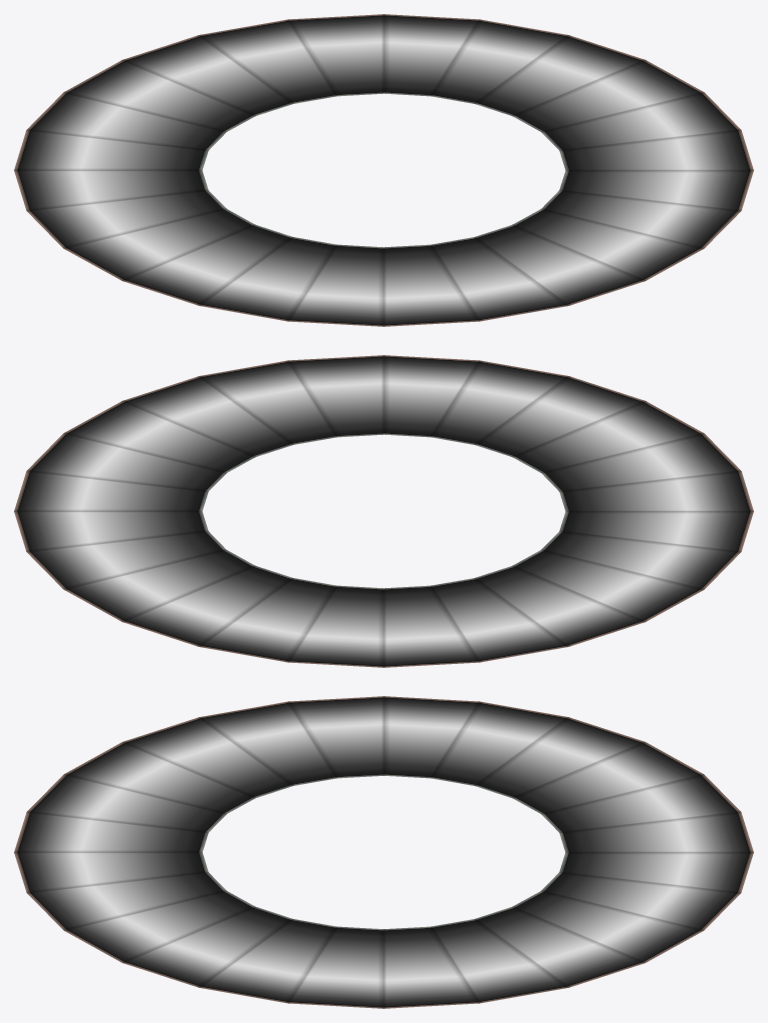
The picture shows the model from 3 angles, top to bottom: view 1: azimuth 30°, elevation 25°; view 2: azimuth 150°, elevation 25°; view 3: azimuth 270°, elevation 25°; orthographic projection.
Parts seen in each view (by area): view 1: T1L4M009_27; view 2: T1L4M009_27; view 3: T1L4M009_27.
Part boxes in pixels (left/top/right/bottom): T1L4M009_27: left=14, top=14, right=753, bottom=326; T1L4M009_27: left=14, top=355, right=753, bottom=667; T1L4M009_27: left=14, top=696, right=753, bottom=1008.
Size of the model in its own units: 3.43 by 0 by 3.43.
